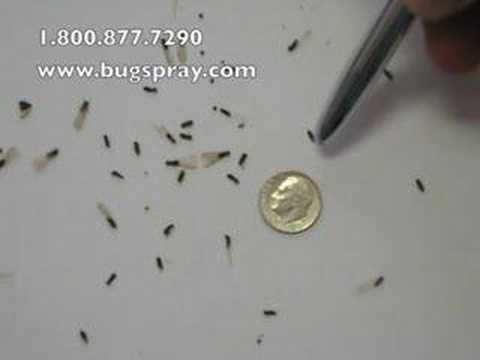flying termite: (89, 197, 120, 236), (31, 147, 65, 176), (71, 93, 92, 138), (163, 148, 198, 171), (223, 223, 238, 273), (201, 147, 230, 170)
